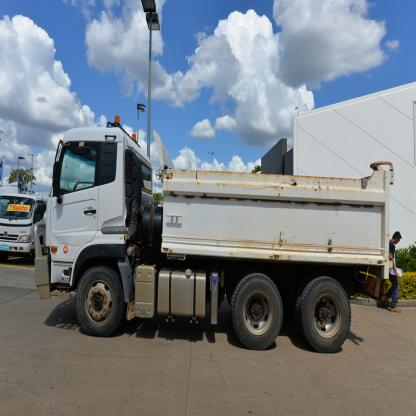dump_truck: (25, 101, 397, 363)
